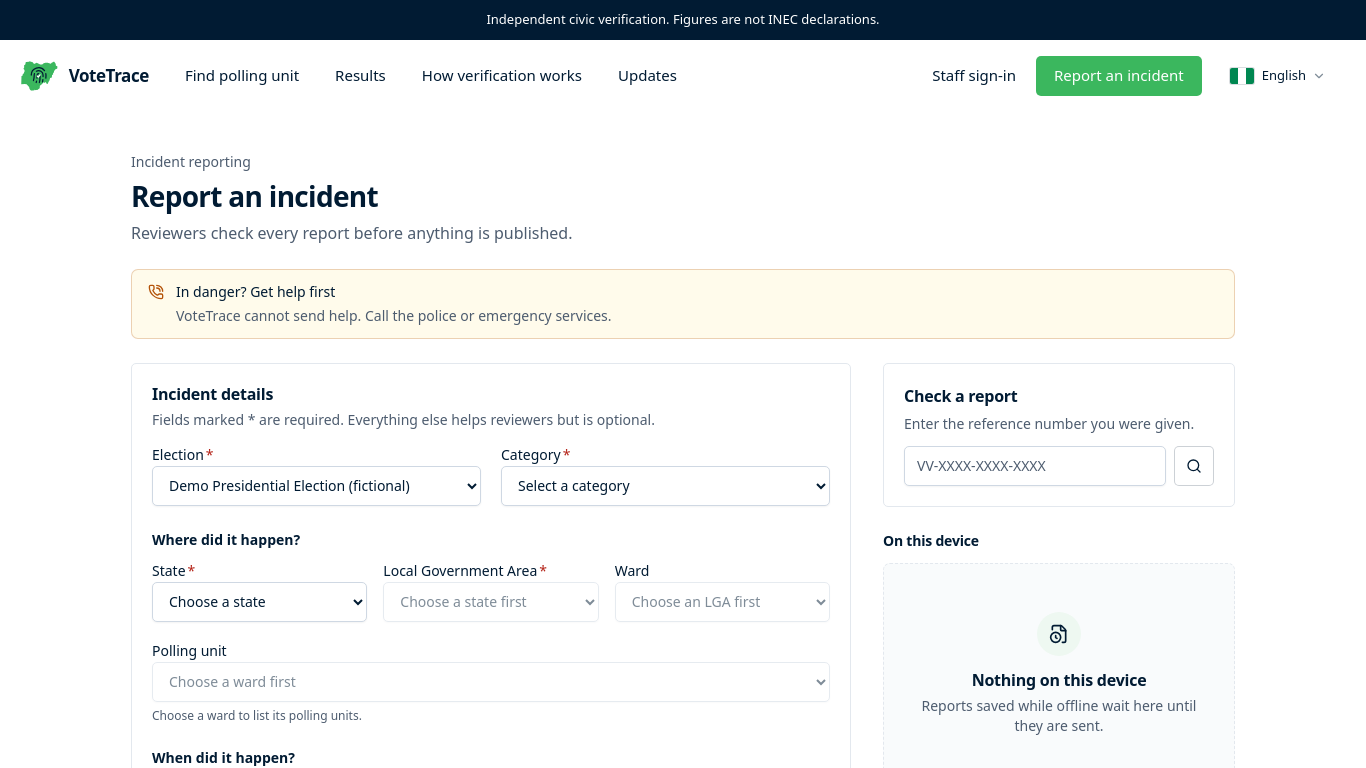
report an incident › tracks a report by reference without showing its content
Type "vv-test-aaaa-0001" into the field named "Reference number".
click(1035, 466); type("vv-test-aaaa-0001")  # box [904,446,1166,486]
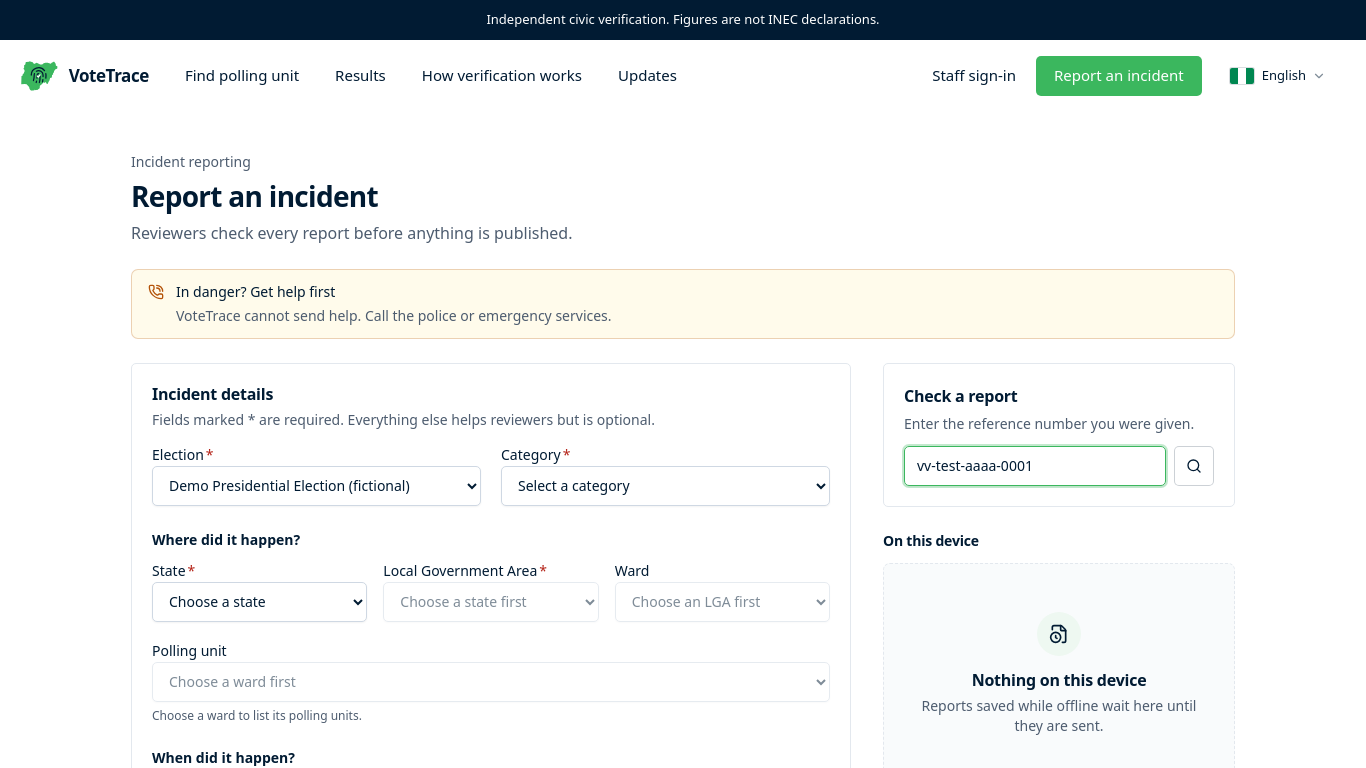
Click the button named "Check".
click(1194, 466)  # box [1174,446,1214,486]
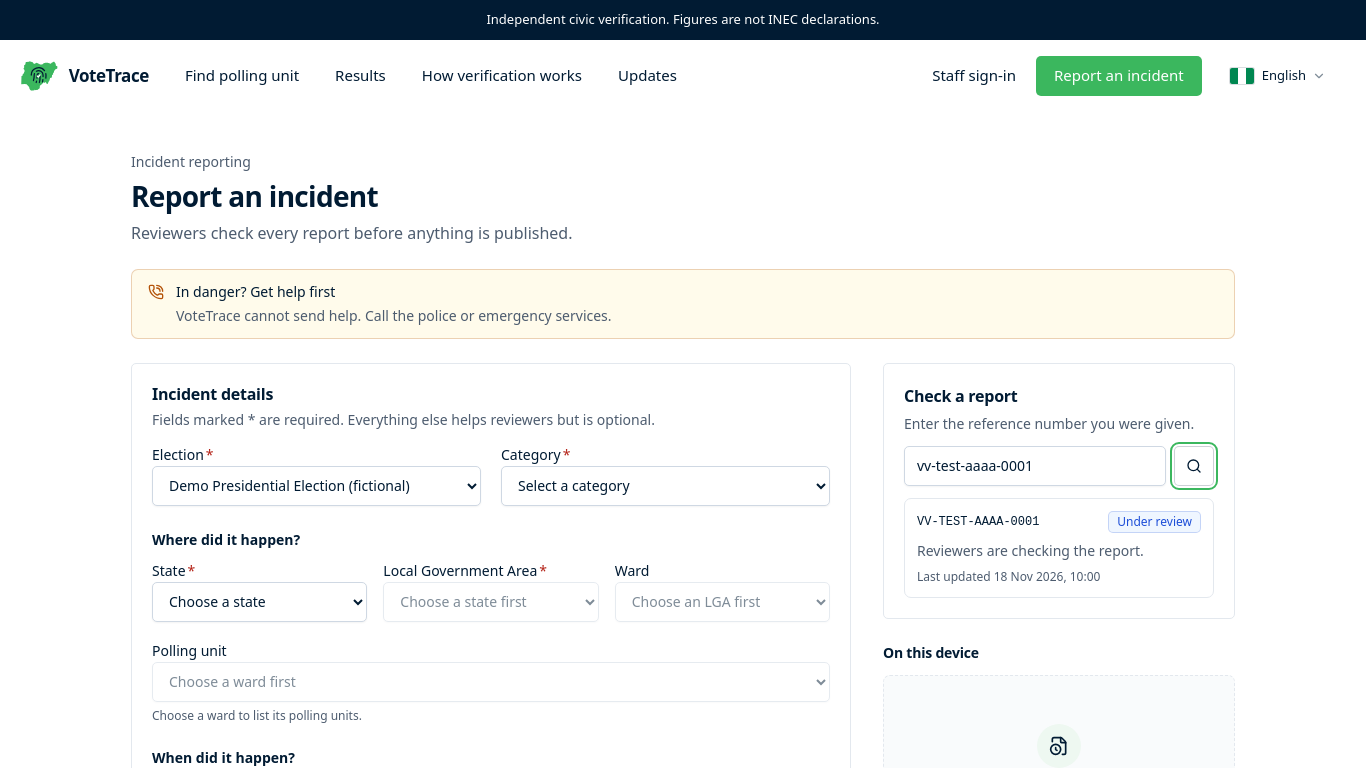
Expected: the text "Reviewers are checking the report." is shown, [917,541,1144,560]
Replace the text in the field named "Reference number" with "VV-NOPE-NOPE-NOPE" at (1035, 466), box [904,446,1166,486]
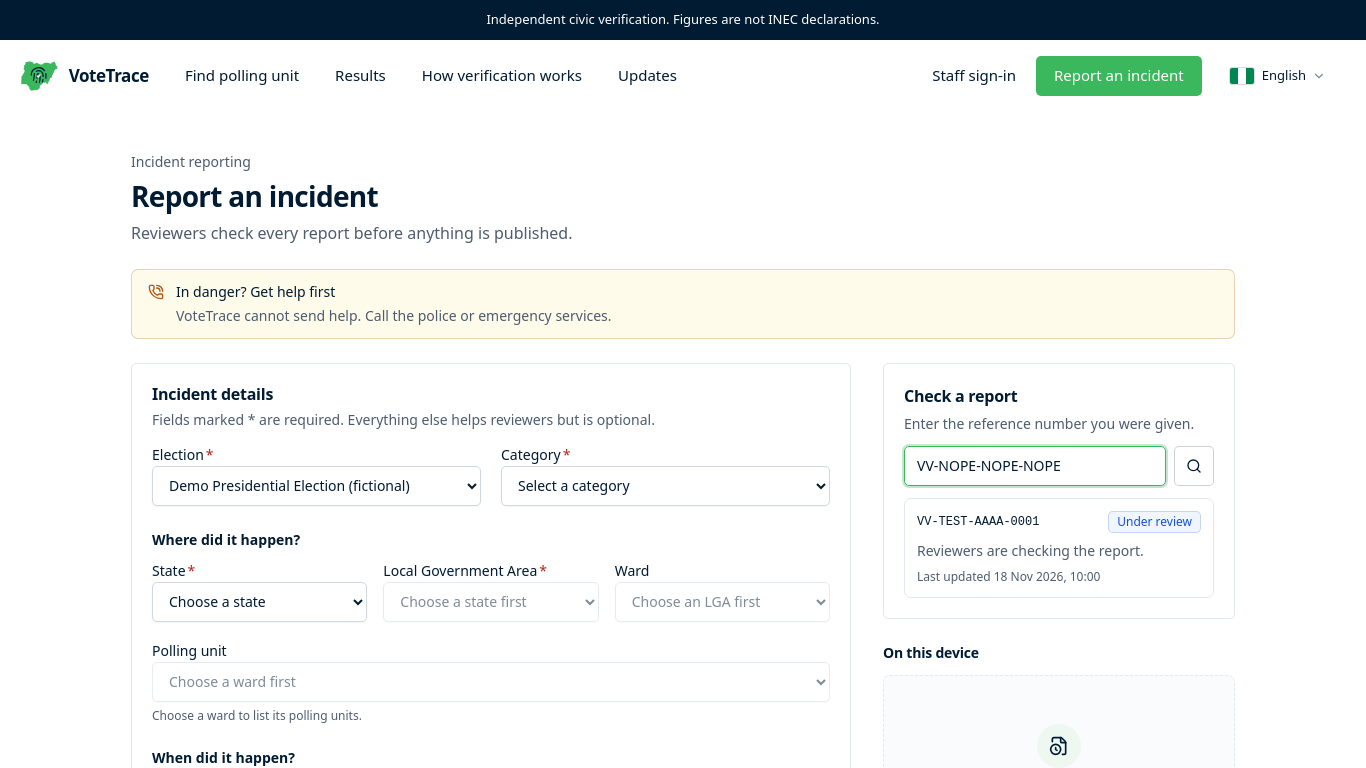
Click the button named "Check".
click(1194, 466)  # box [1174,446,1214,486]
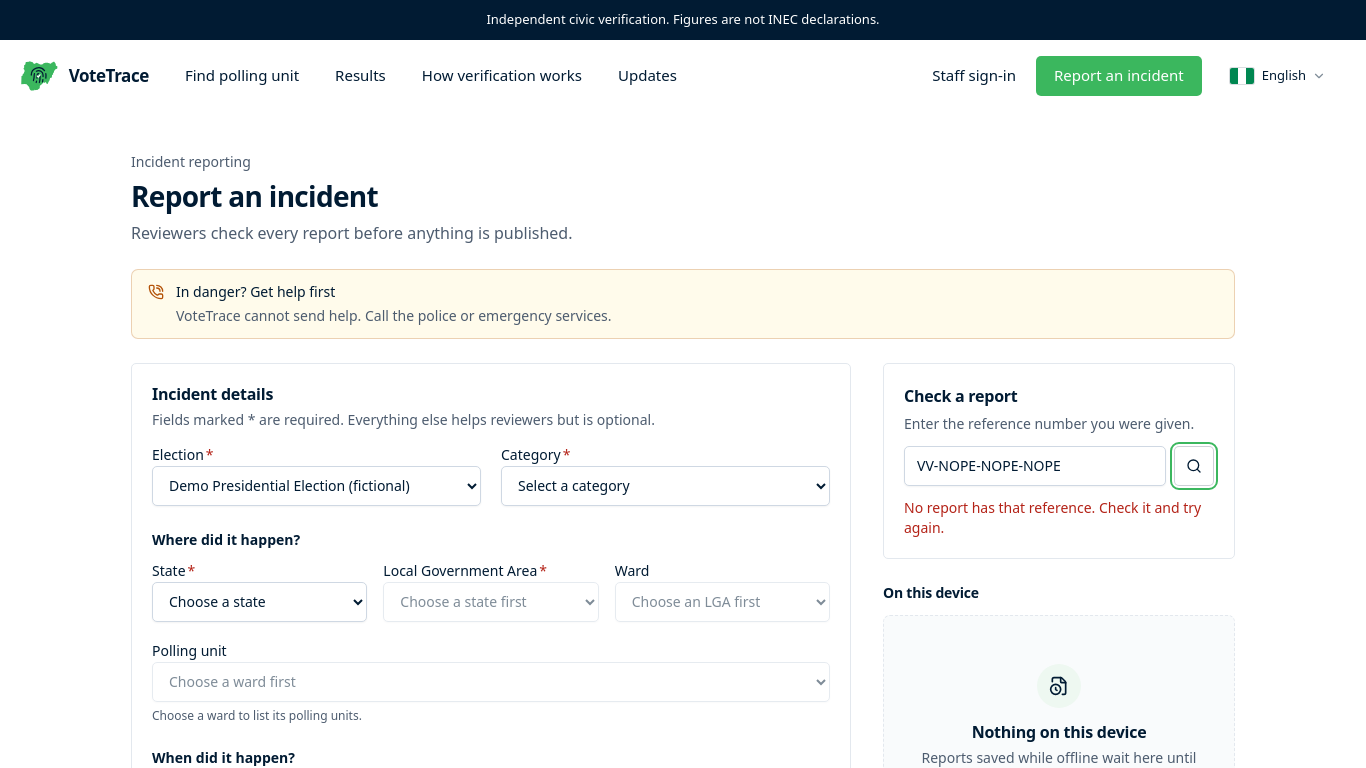
Expected: the text "No report has that reference. Check it and try again." is shown, [904,498,1214,538]
